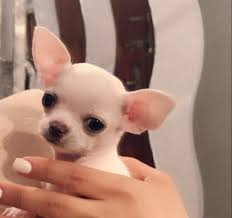chihuahua: (1, 19, 178, 182)
